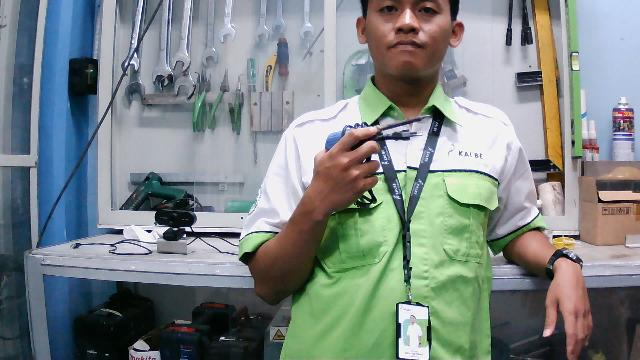solder_electrical: (323, 111, 434, 212)
